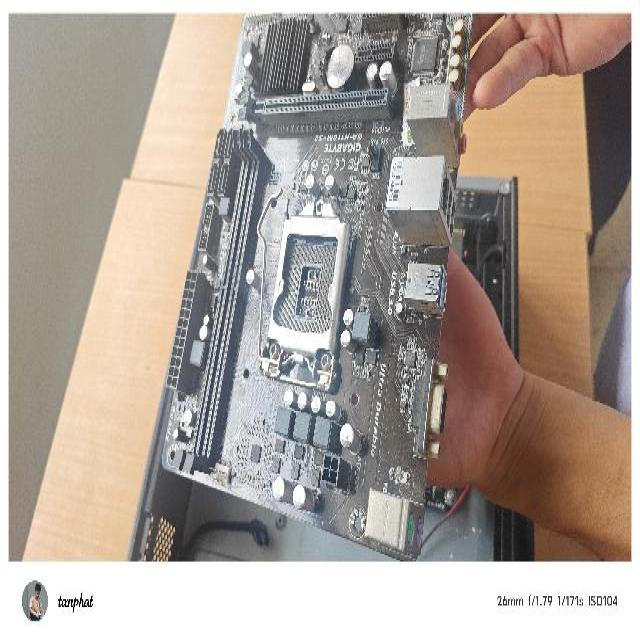Mainboard: (158, 10, 473, 564)
